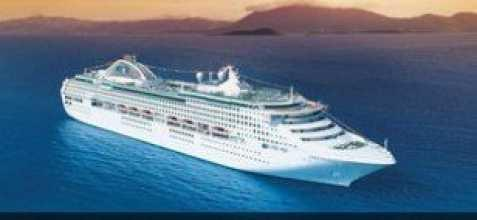youlun: (59, 44, 398, 185)
